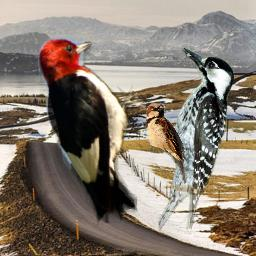Swallow: (145, 103, 187, 183)
Woodpecker: (37, 37, 152, 226), (153, 46, 234, 230)
